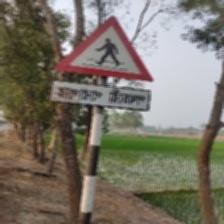Pedestrian-crossing: (50, 15, 156, 113)
